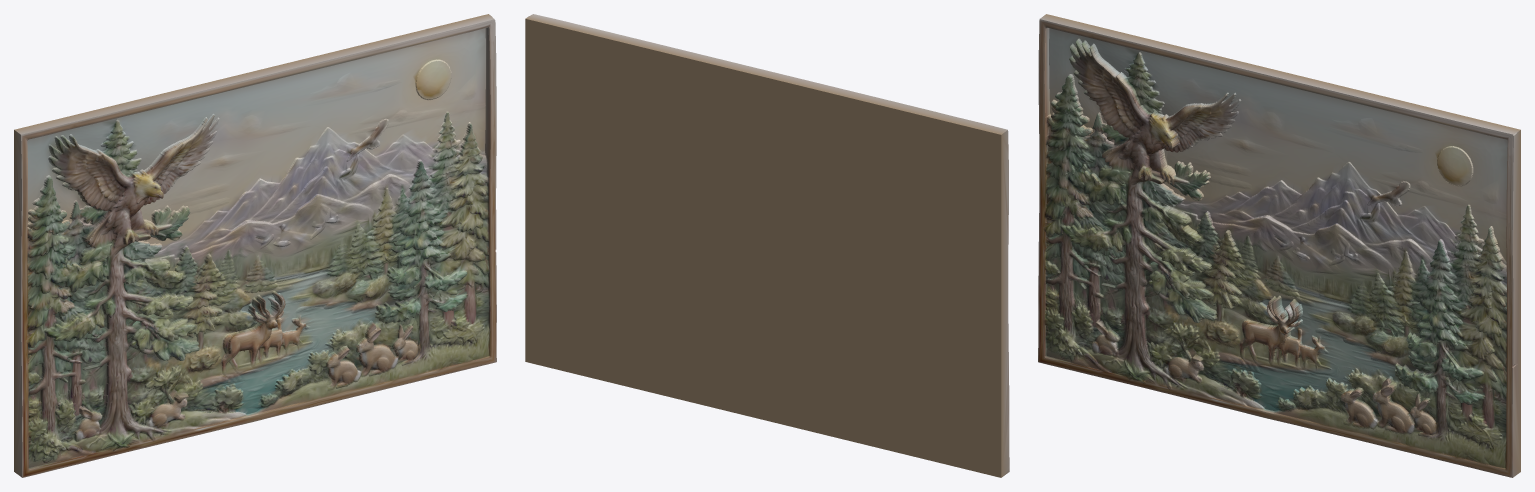
File: H44-web.glb
The picture shows the model from 3 angles, left to right: view 1: azimuth 30°, elevation 25°; view 2: azimuth 150°, elevation 25°; view 3: azimuth 330°, elevation 25°; orthographic projection.
Visible parts, largest first — view 1: geometry_0; view 2: geometry_0; view 3: geometry_0.
Boxes of the visible parts, x1,y1,x2,y2 form: geometry_0: (14,14,496,477); geometry_0: (525,14,1009,477); geometry_0: (1038,14,1520,477).
Size of the model in its own units: 0.6 by 0.4134 by 0.027.
